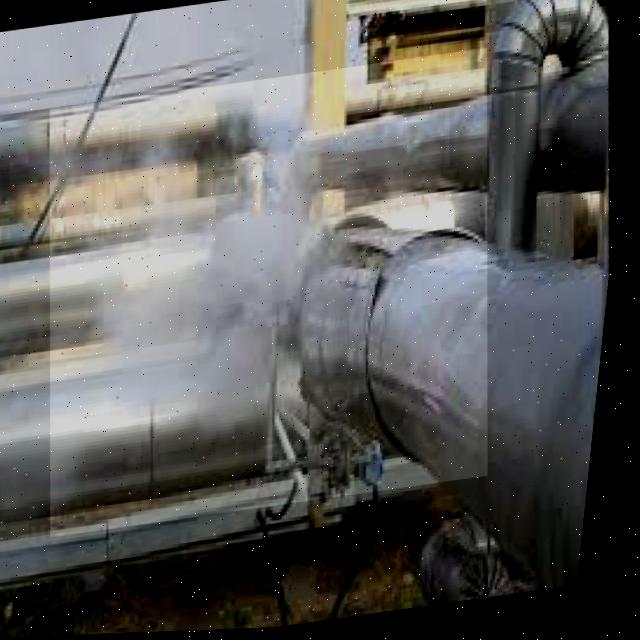corrosion: (160, 121, 351, 327)
